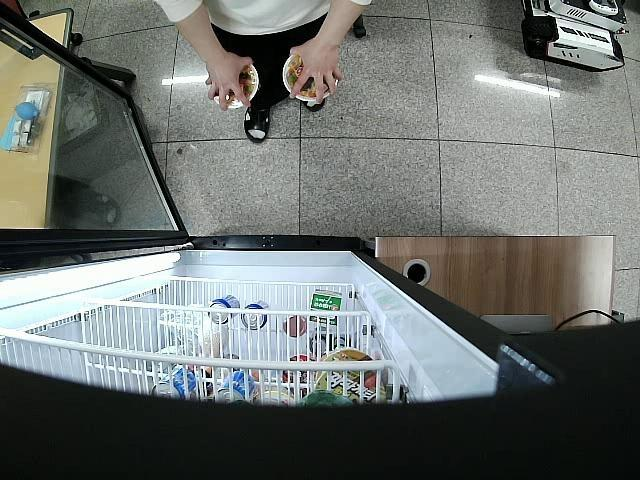09_yukGaeJang: (282, 55, 338, 102), (214, 64, 258, 110)
